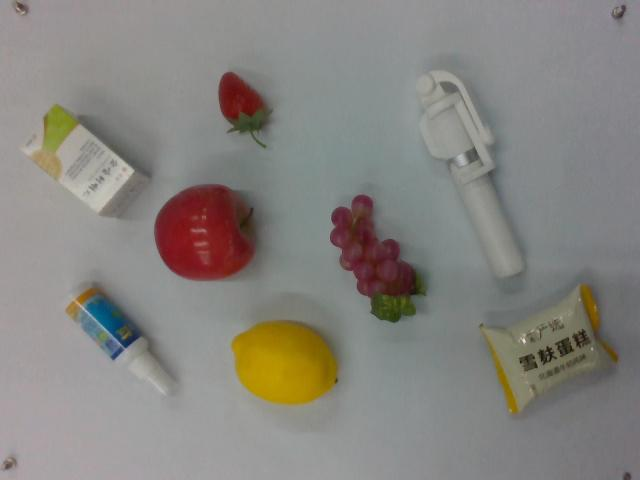apple: (152, 182, 264, 284)
carton: (18, 101, 149, 220)
dessert: (478, 280, 625, 417)
detergent: (64, 278, 182, 403)
grape: (328, 193, 425, 322)
lemon: (231, 317, 339, 407)
selfiestick: (411, 69, 529, 278)
strawberry: (215, 66, 276, 151)
